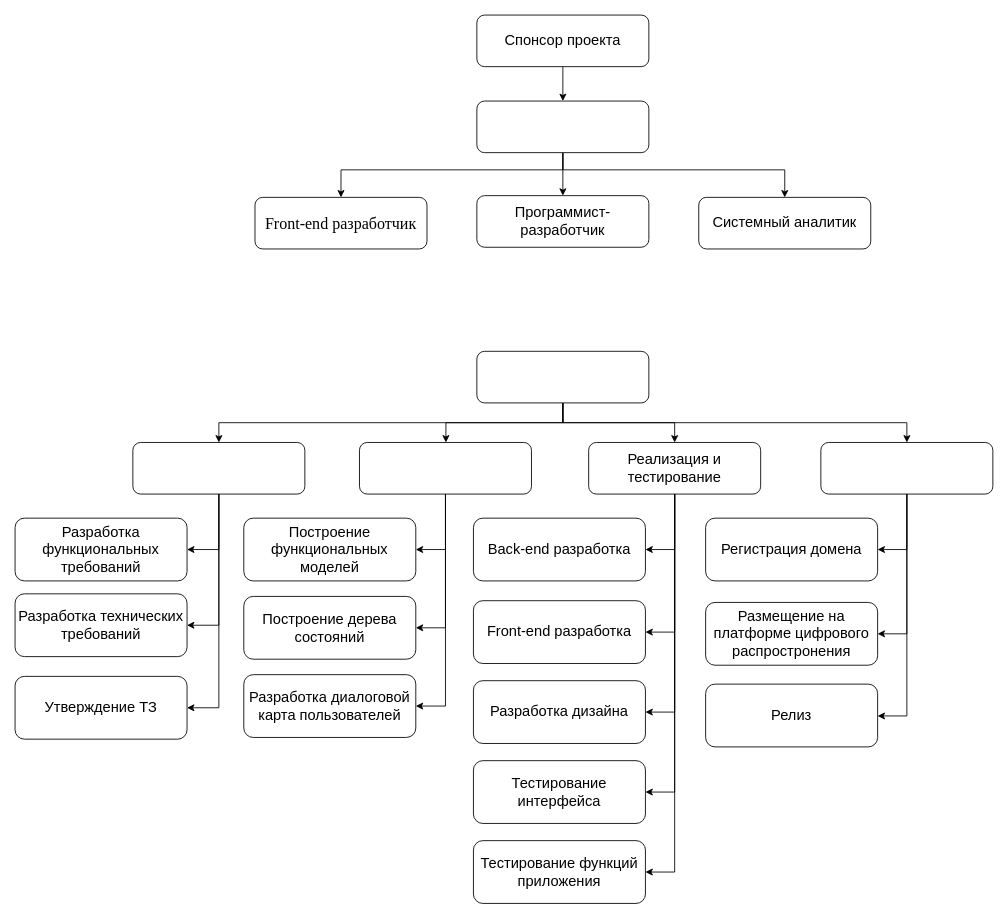
The diagram is 1008 pixels wide and 918 high, and some of its shapes have lost their labels. Each missing label, with the box of its shape:
Анализ требований: (132, 442, 305, 494)
Внедрение: (820, 442, 993, 494)
Проектирование системы: (359, 442, 531, 494)
Разработка ТП: (476, 350, 649, 403)
Руководитель: (476, 100, 649, 153)
